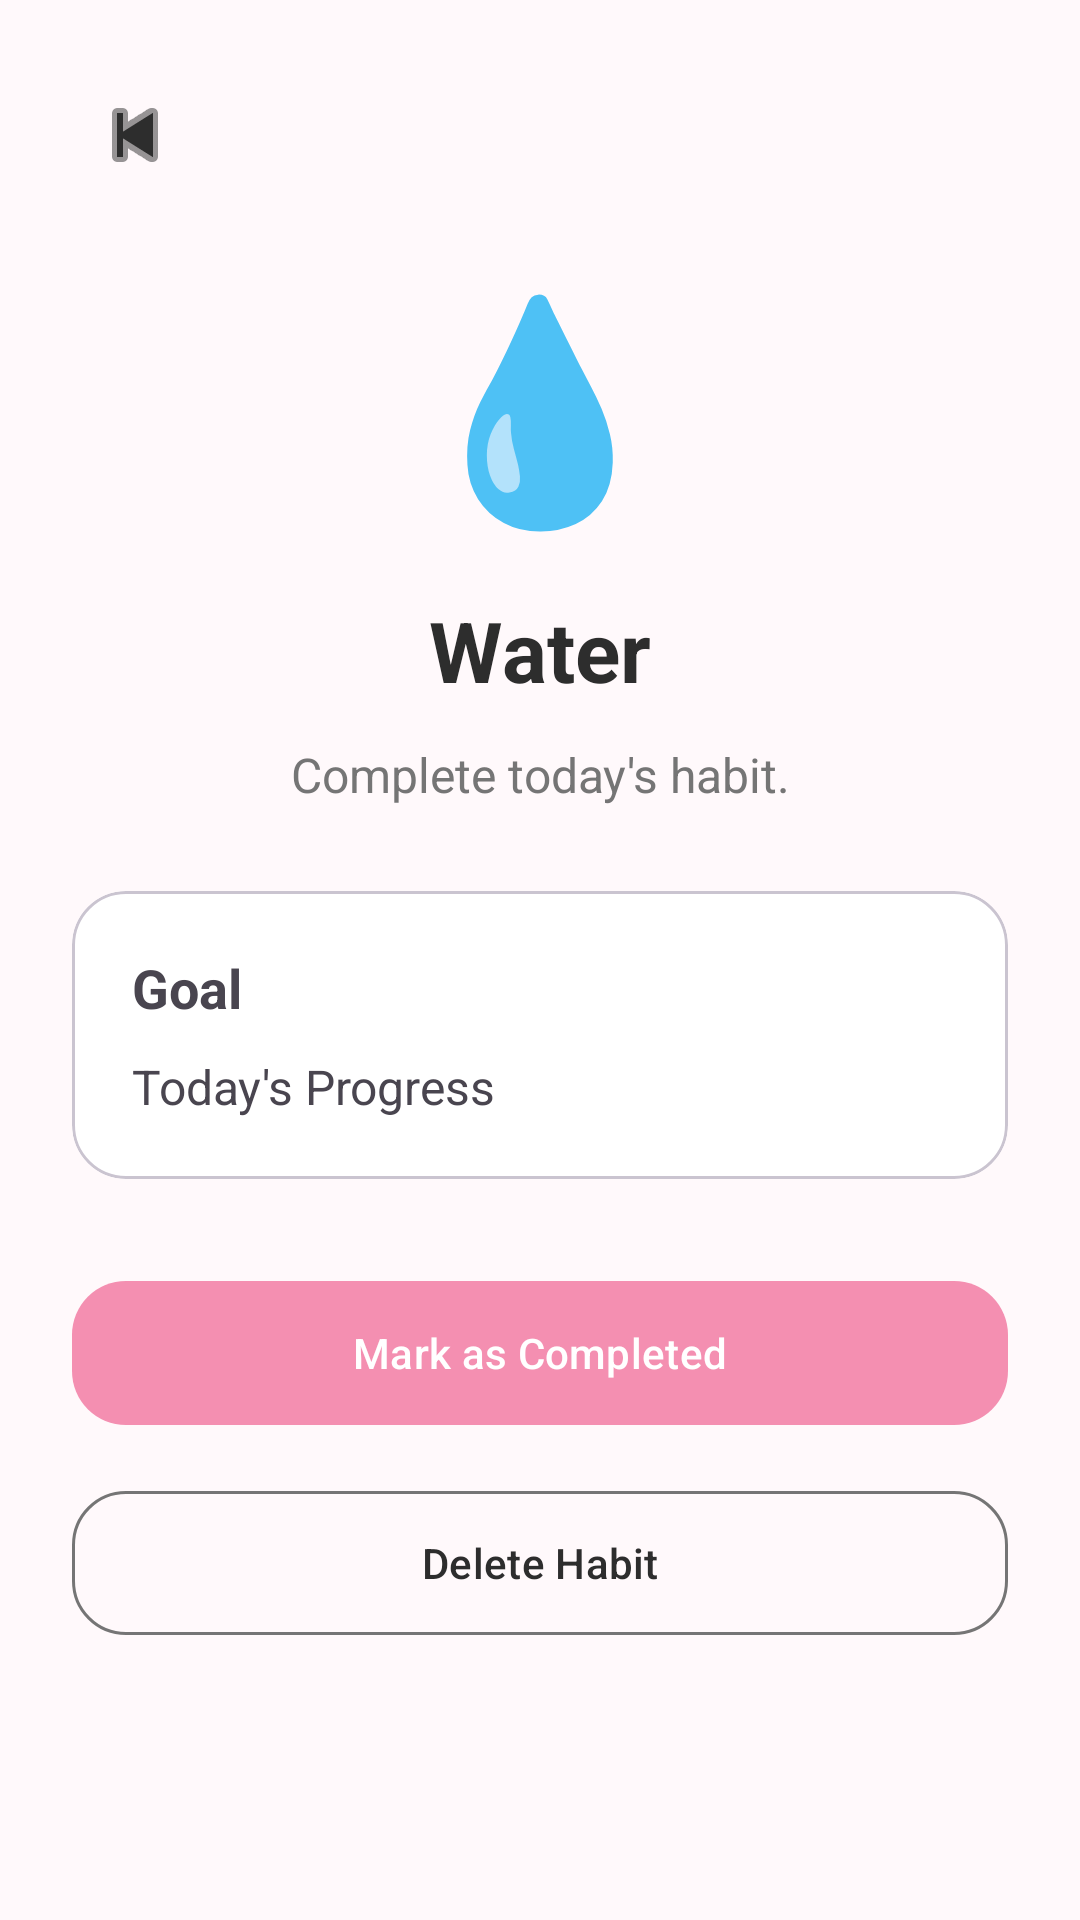

Icons on this 1080x1920 Android screen, each with its box as (x1, y1, x2, y2):
previous: (112, 108, 158, 162)
